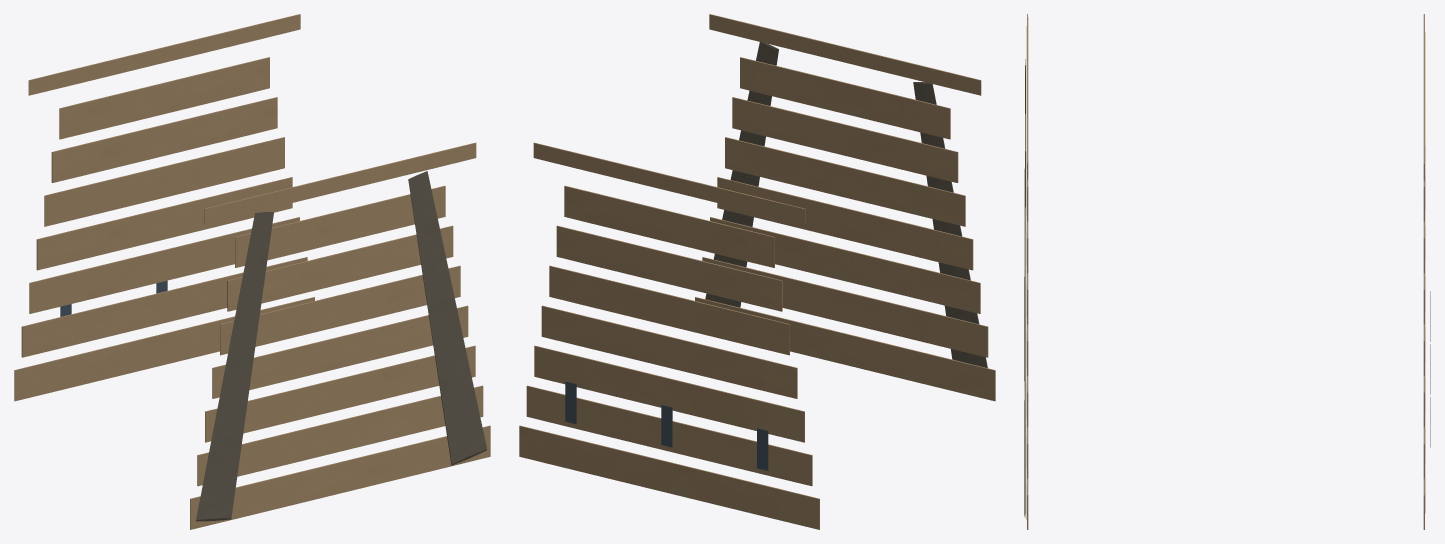
File: siltwake-flood-abutment-0.glb
3 renders of one model, left to right at view 1: azimuth 30°, elevation 25°; view 2: azimuth 150°, elevation 25°; view 3: azimuth 270°, elevation 25°, orthographic. The views are drawn at different scales.
Visible parts, largest first — view 1: siltwake-flood-abutment_LOD0; view 2: siltwake-flood-abutment_LOD0; view 3: siltwake-flood-abutment_LOD0.
Part boxes in pixels (x1,y1,x2,y2): siltwake-flood-abutment_LOD0: (14,14,490,529); siltwake-flood-abutment_LOD0: (519,14,995,529); siltwake-flood-abutment_LOD0: (1024,14,1430,529).
Size of the model in its own units: 0.94 by 0.9485 by 0.9754.
3 materials, 3 textured.
